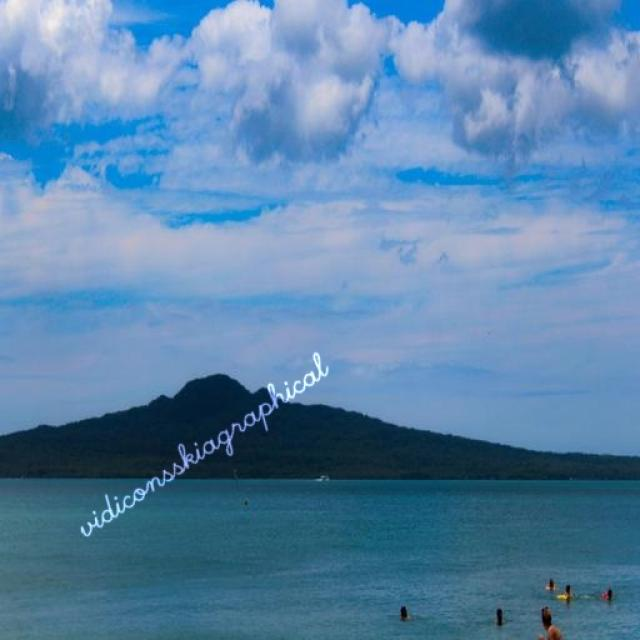watermark: (76, 344, 330, 542)
